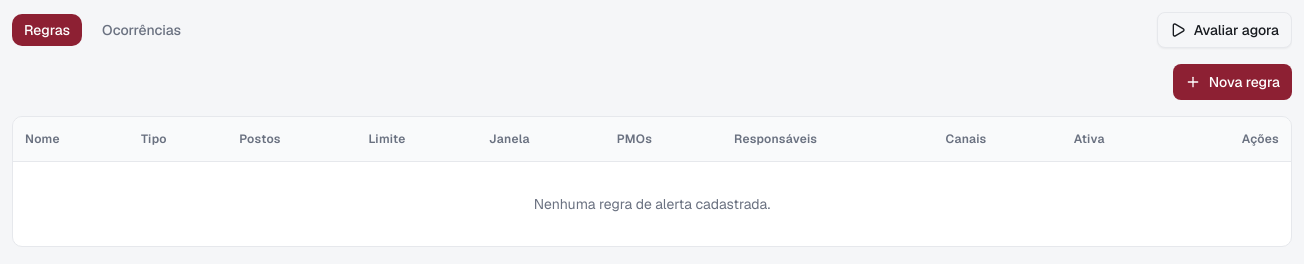
Test: AlertasTela — "Avaliar agora" › a ocorrência REABERTA aparece na hora, sem F5 (o achado do smoke)
Click the button "Ocorrências" at (142, 30), box [90,14,193,46]
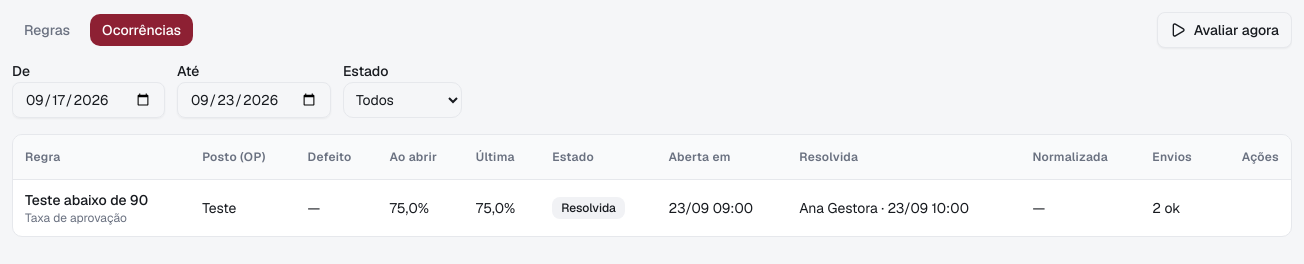
Check: the cell "Resolvida" is shown, box [540,179,657,236]
Click the button "Avaliar agora" at (1224, 30), box [1157,12,1292,48]
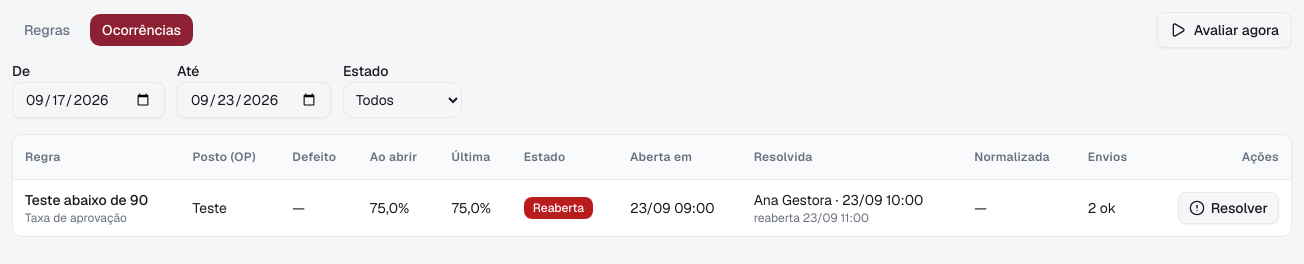
Check: the cell "Reaberta" is shown, box [512,179,618,236]
